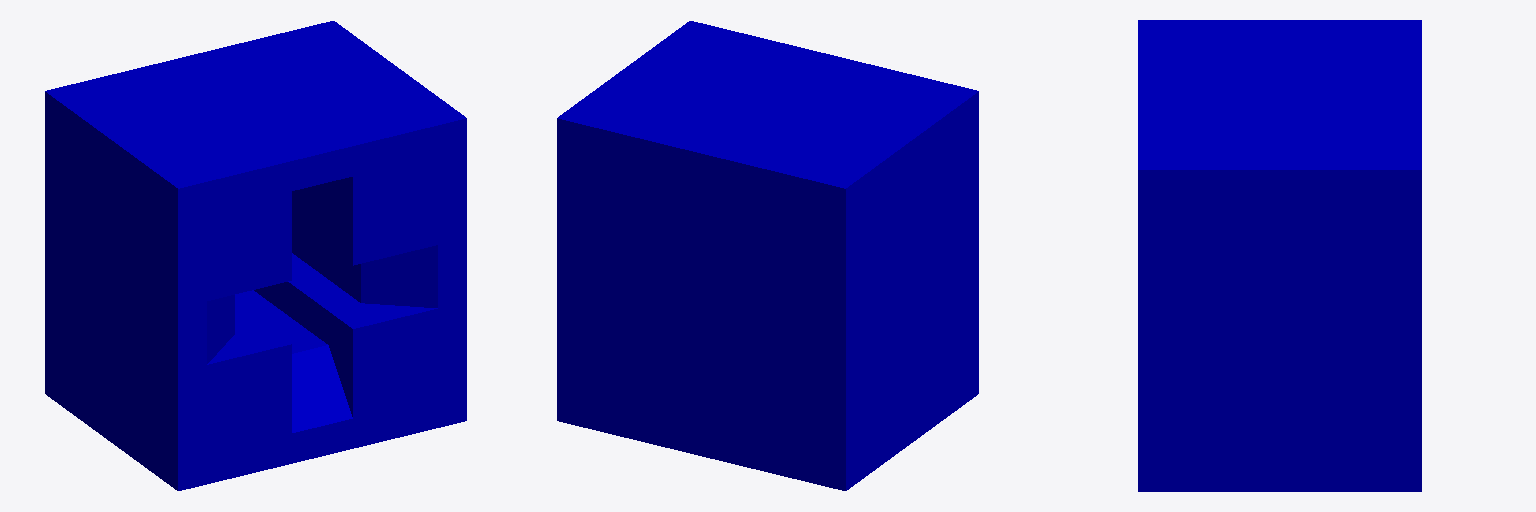
URDF robot description (receiver):
<?xml version="1.0" ?>
<robot name="receiver">
  <link name="baseLink">
    <contact>
      <lateral_friction value="0.2"/>
      <rolling_friction value="0."/>
	<restitution value="0.60" />
    </contact>
    <inertial>
      <origin rpy="0 0 0" xyz="0 0 0"/>
       <mass value="0."/>
       <inertia ixx="1.550E-05" ixy="0" ixz="0" iyy="1.550E-05" iyz="0" izz="3.060E-05"/>
    </inertial>
    <visual>
      <origin rpy="0 0 0" xyz="0 0 0"/>
      <geometry>
		<mesh filename="./socket_3d.obj" scale="0.1 0.1 0.1"/>
      </geometry>
       <material name="green">
        <color rgba="0 0 0.8 0.5"/>
      </material>
    </visual>
    <collision concave="yes">
      <origin rpy="0 0 0" xyz="0 0 0"/>
      <geometry>
	 	<mesh filename="./socket_3d.obj" scale="0.1 0.1 0.1"/>
      </geometry>
    </collision>
  </link>
</robot>

--- Facts derived from the render (not from the file) ---
3 views of the same robot in one strip: view 1: azimuth 30°, elevation 25°; view 2: azimuth 150°, elevation 25°; view 3: azimuth 270°, elevation 25° (orthographic).
Robot: receiver — 1 links, 0 joints (none); root link baseLink; default pose: every joint at zero.
Visible links, largest first — view 1: baseLink; view 2: baseLink; view 3: baseLink.
Boxes of the visible links, x1,y1,x2,y2 form: baseLink: [45, 21, 466, 490]; baseLink: [557, 21, 978, 490]; baseLink: [1138, 20, 1421, 491].
Bounding box of the posed robot: 1 × 0.8 × 1 m (x, y, z).
Meshes: 1 distinct files referenced, 1 mesh visuals loaded (1 OBJ).